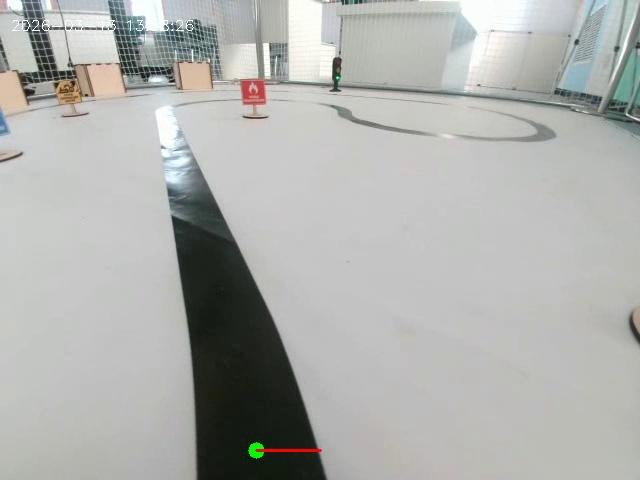fire: (230, 70, 279, 127)
flood: (0, 89, 24, 172)
industrial: (42, 71, 99, 128)
